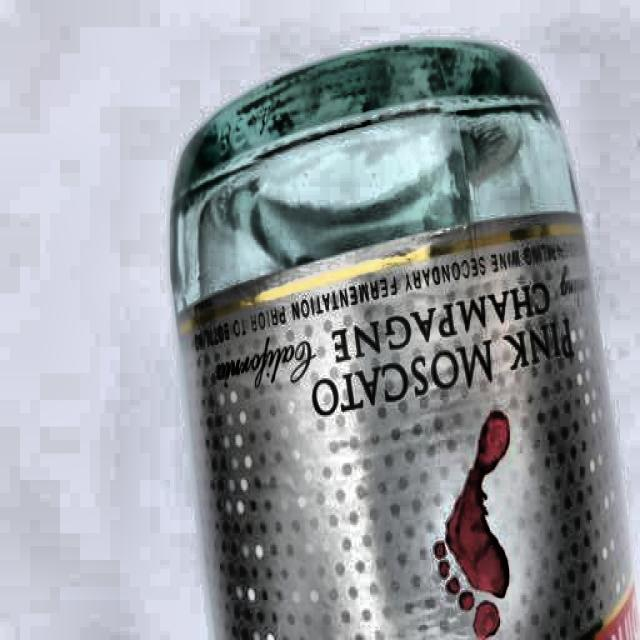glass: (168, 32, 638, 640)
